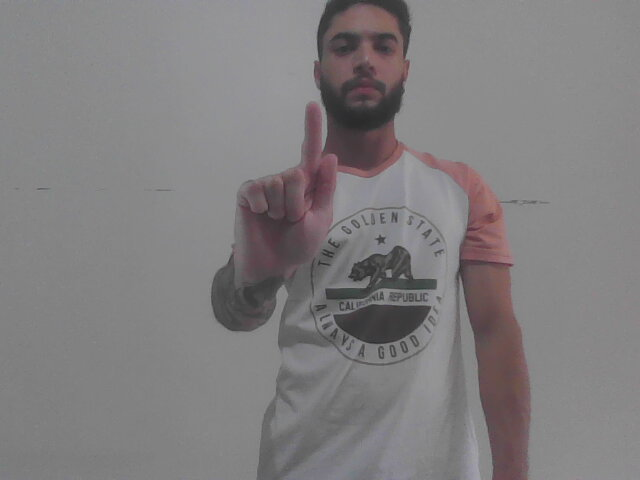g: (230, 94, 340, 293)
